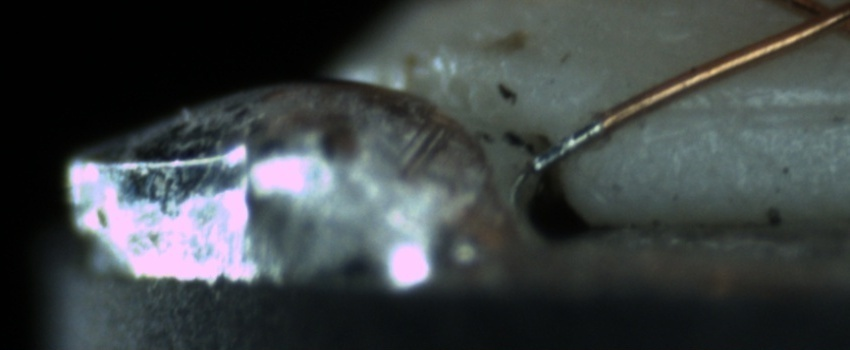CL: (775, 0, 850, 46)
DL: (669, 76, 850, 145)
TS: (536, 117, 608, 169)
